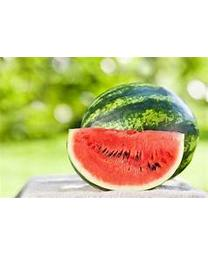watermelon: (64, 83, 197, 191)
